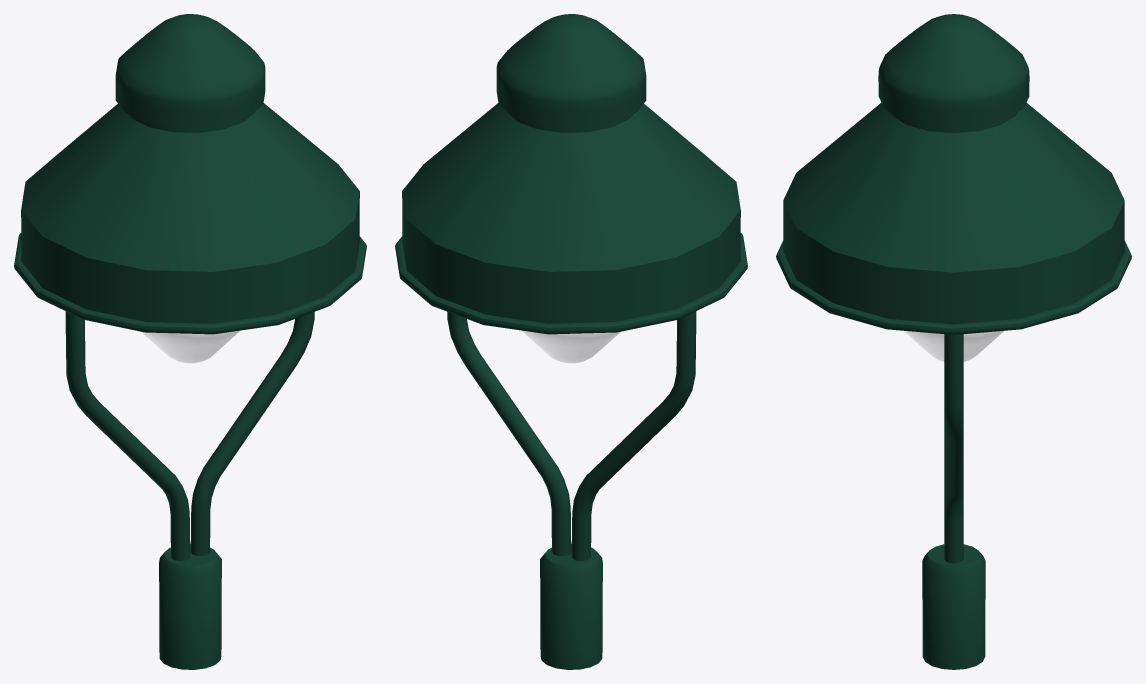
File: Albstadt.glb
The picture shows the model from 3 angles, left to right: view 1: azimuth 30°, elevation 25°; view 2: azimuth 150°, elevation 25°; view 3: azimuth 270°, elevation 25°; orthographic projection.
Parts seen in each view (by area): view 1: BezierCurve.001; view 2: BezierCurve.001; view 3: BezierCurve.001.
Part boxes in pixels (x1,y1,x2,y2): BezierCurve.001: [14, 14, 366, 669]; BezierCurve.001: [395, 14, 747, 669]; BezierCurve.001: [776, 14, 1131, 669].
Size of the model in its own units: 0.5162 by 1.02 by 0.5162.
3 materials, 2 textured.
